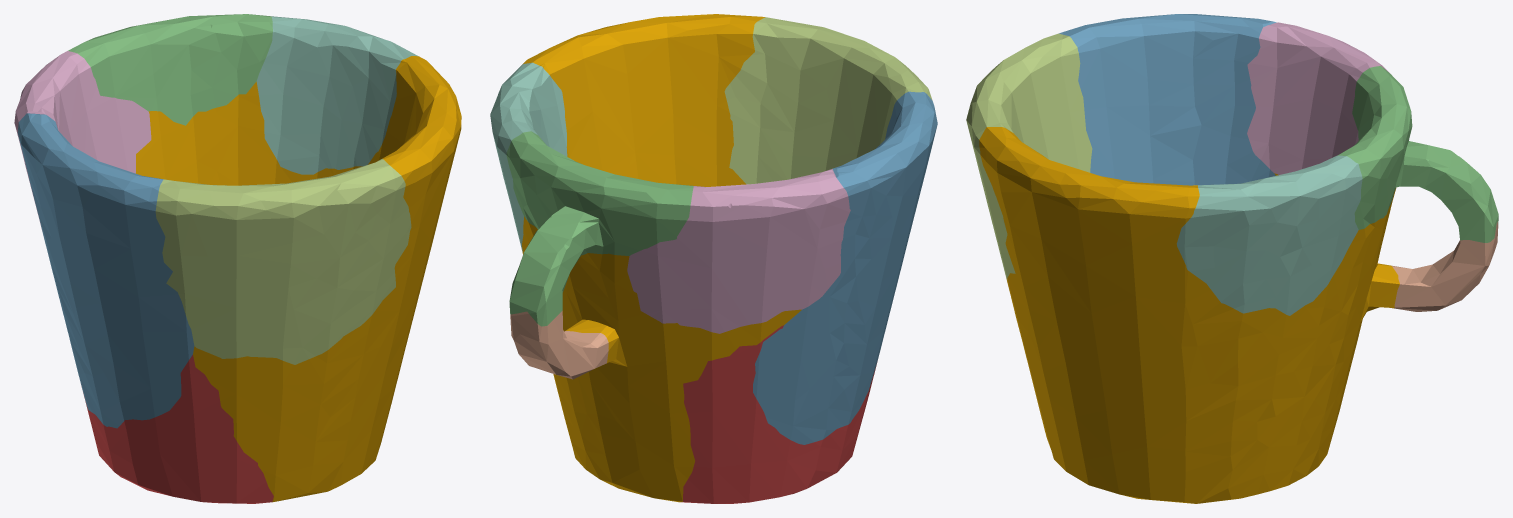
Rendered from mode_10_8pcs.glb.
3 renders of one model, left to right at view 1: azimuth 30°, elevation 25°; view 2: azimuth 150°, elevation 25°; view 3: azimuth 270°, elevation 25°, orthographic.
Visible parts, largest first — view 1: piece_0.obj, piece_5.obj, piece_2.obj, piece_4.obj, piece_3.obj, piece_1.obj, piece_6.obj; view 2: piece_0.obj, piece_2.obj, piece_6.obj, piece_5.obj, piece_3.obj, piece_1.obj, piece_4.obj, piece_7.obj; view 3: piece_0.obj, piece_2.obj, piece_4.obj, piece_6.obj, piece_3.obj, piece_5.obj, piece_7.obj.
Boxes of the visible parts, x1,y1,x2,y2 form: piece_0.obj: (136,56,461,502); piece_5.obj: (155,159,411,364); piece_2.obj: (17,113,194,428); piece_4.obj: (256,16,418,174); piece_3.obj: (68,14,272,125); piece_1.obj: (83,355,273,503); piece_6.obj: (14,51,151,229); piece_0.obj: (522,14,801,502); piece_2.obj: (753,91,937,444); piece_6.obj: (627,169,850,333); piece_5.obj: (724,17,932,184); piece_3.obj: (506,131,693,326); piece_1.obj: (681,325,877,503); piece_4.obj: (490,62,567,252); piece_7.obj: (510,311,608,379); piece_0.obj: (979,127,1399,503); piece_2.obj: (1059,14,1276,185); piece_4.obj: (1176,155,1362,315); piece_6.obj: (1247,22,1390,174); piece_3.obj: (1337,66,1498,242); piece_5.obj: (966,33,1092,279); piece_7.obj: (1392,222,1498,311).
Size of the model in its own units: 0.8382 by 0.7127 by 1.
